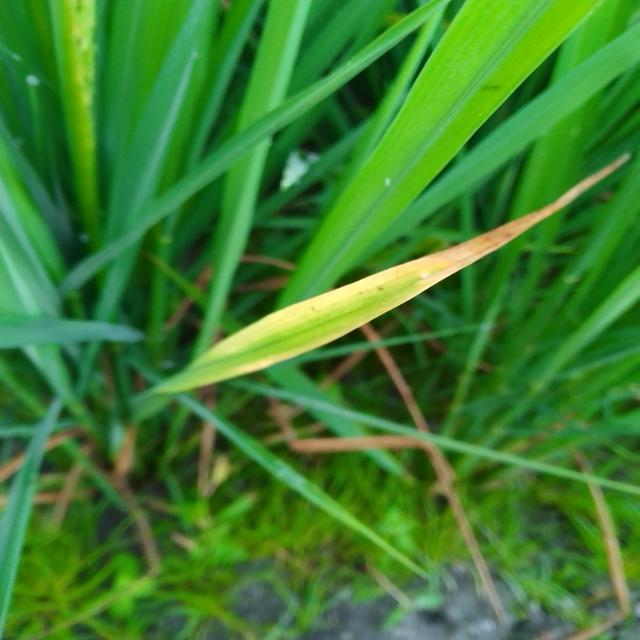Brown spot: (150, 154, 626, 421)
